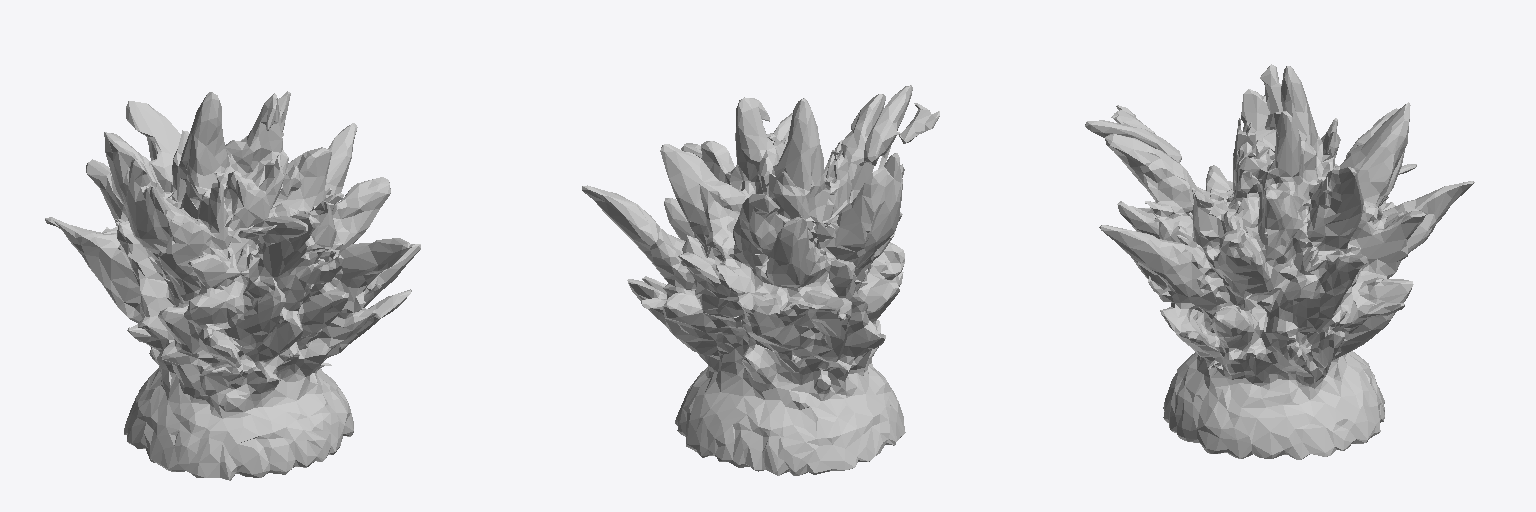
The model's file is 76cfb87e206e_green_and_purple_al.obj.
3 renders of one model, left to right at view 1: azimuth 30°, elevation 25°; view 2: azimuth 150°, elevation 25°; view 3: azimuth 270°, elevation 25°, orthographic.
Visible parts, largest first — view 1: mesh; view 2: mesh; view 3: mesh.
Boxes of the visible parts, x1=… form: mesh: x1=45, y1=91, x2=420, y2=480; mesh: x1=582, y1=85, x2=939, y2=475; mesh: x1=1085, y1=64, x2=1474, y2=459.
Size of the model in its own units: 0.8482 by 0.9658 by 1.